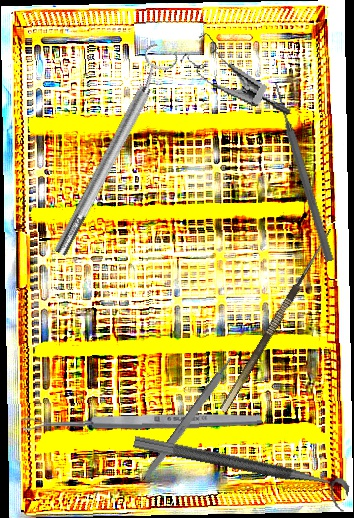Fixation Ring: (42, 41, 182, 261), (128, 434, 352, 513)
Hook Surgical: (210, 222, 335, 413)
Pusher: (270, 81, 336, 263)
Scalpel Handle: (138, 354, 239, 486)
Speculum: (173, 28, 306, 117)
Surgical Spoon: (22, 411, 262, 432)
